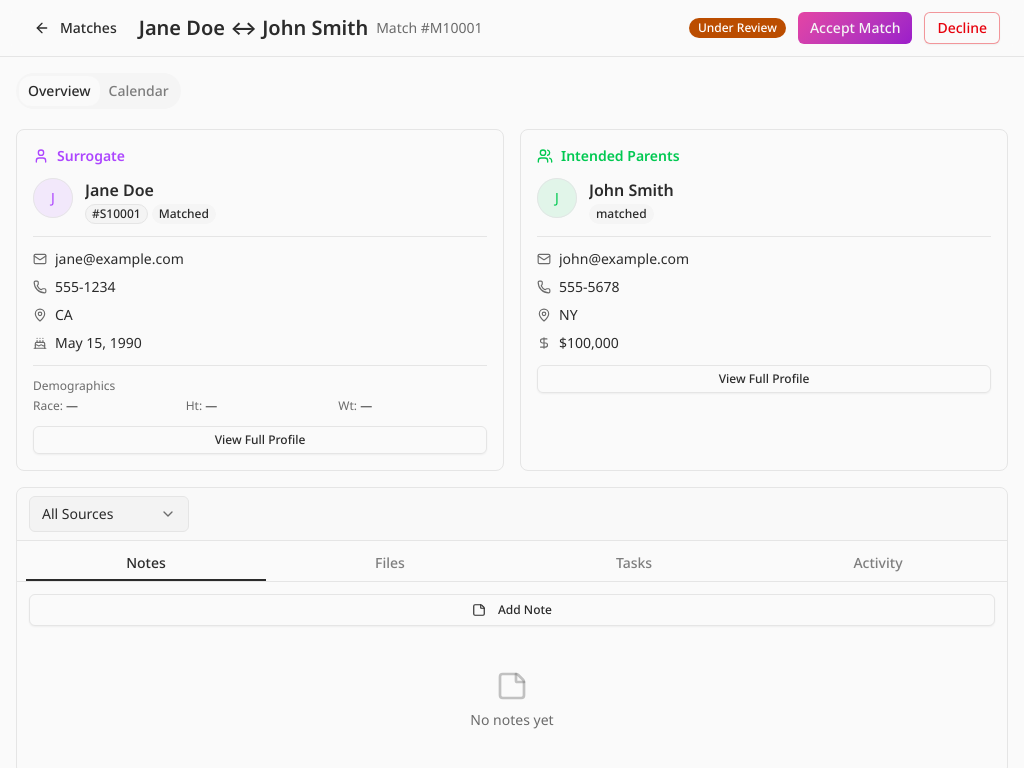
Test: MatchDetailPage › confirms file deletion in an app dialog that names the file
This screenshot has width=1024, height=768.
What coordinates should you click on to do the following:
click the tab "Files"
I would click on:
 (390, 563)
Its box is [270,548,510,578].
(page scrolled)
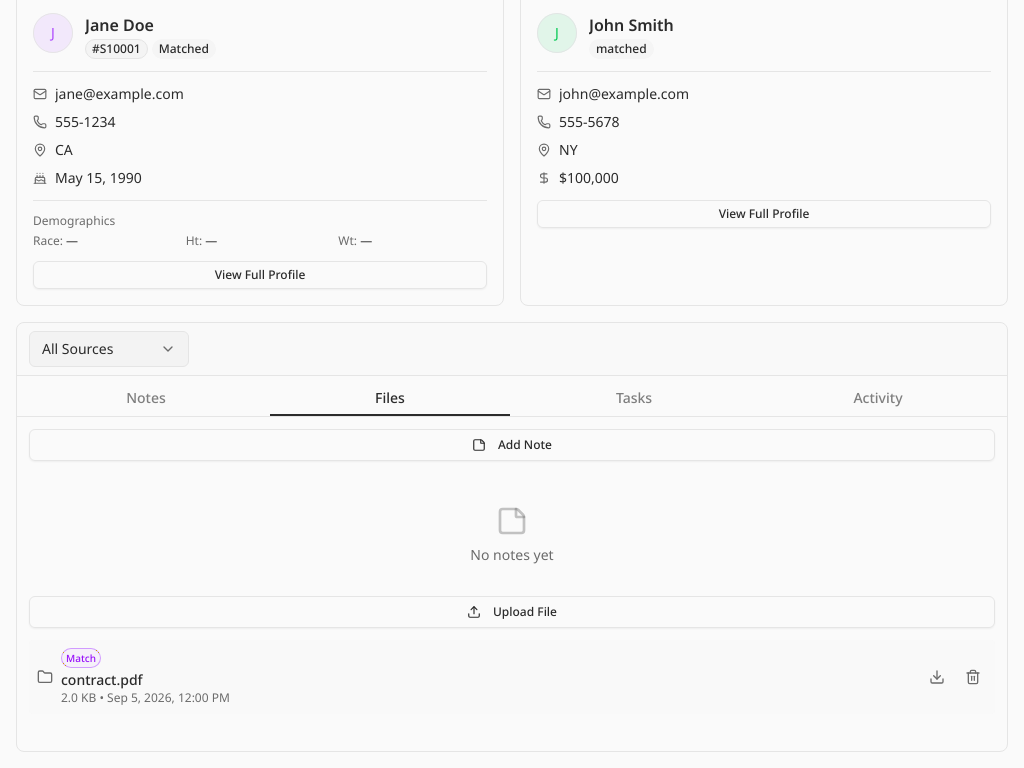
What coordinates should you click on to do the following:
click the button named "Delete contract.pdf"
I would click on:
 (973, 677)
Its box is [959,663,987,691].
(page scrolled)
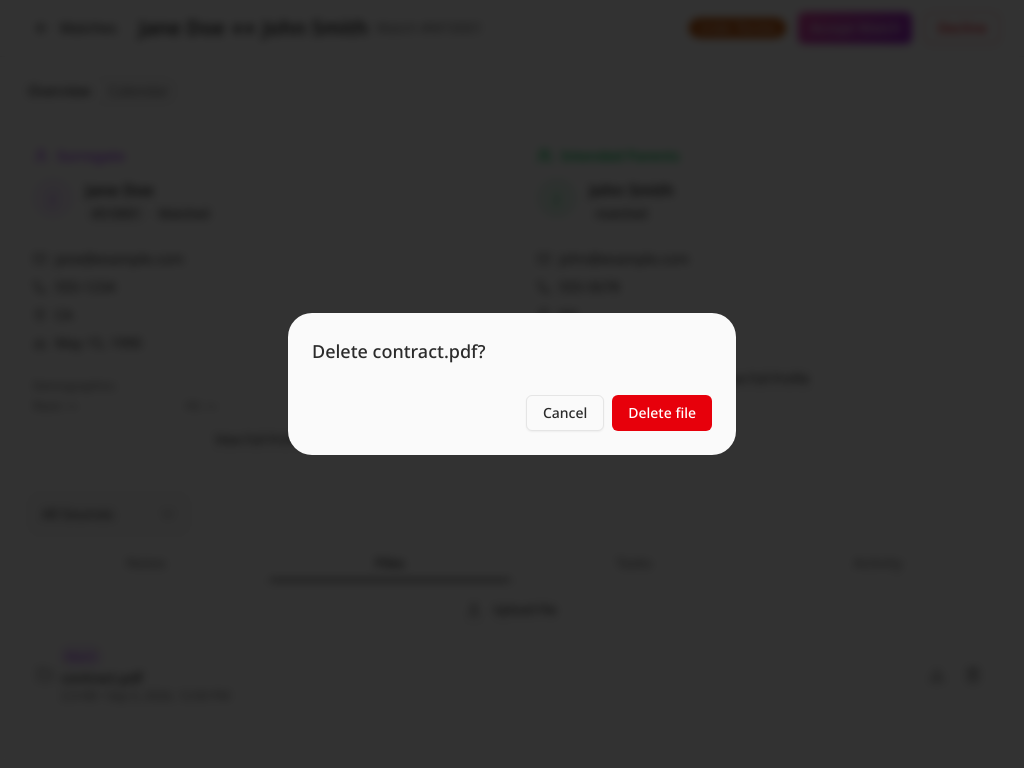
expect the button "Delete file" is shown: met
What coordinates should you click on to do the following:
click the button "Delete file"
I would click on:
 (662, 413)
Its box is [612,395,712,431].
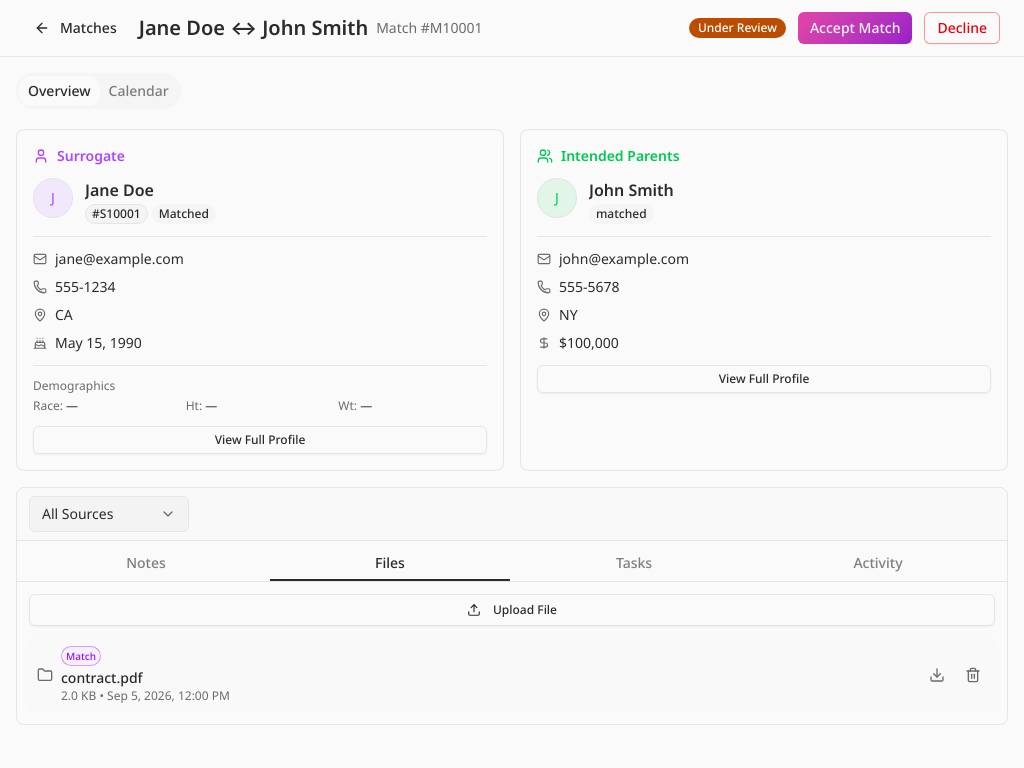
expect the dialog is gone: met
